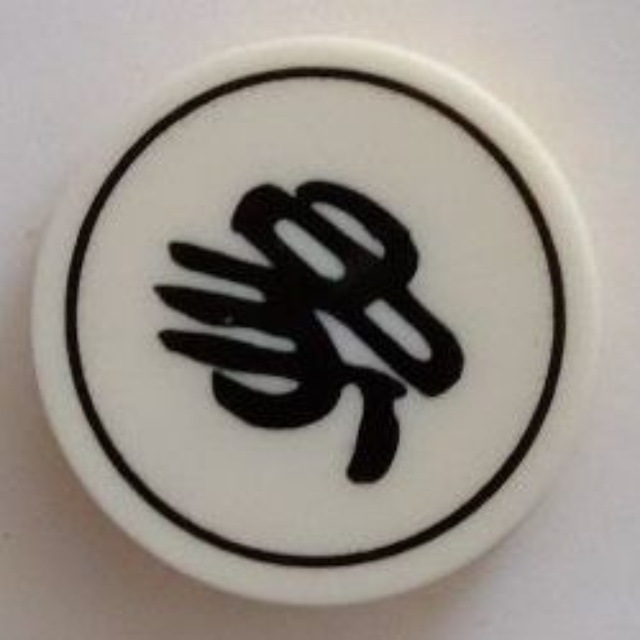black_bo: (24, 32, 621, 611)
